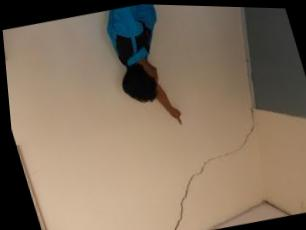crack: (169, 107, 251, 230)
